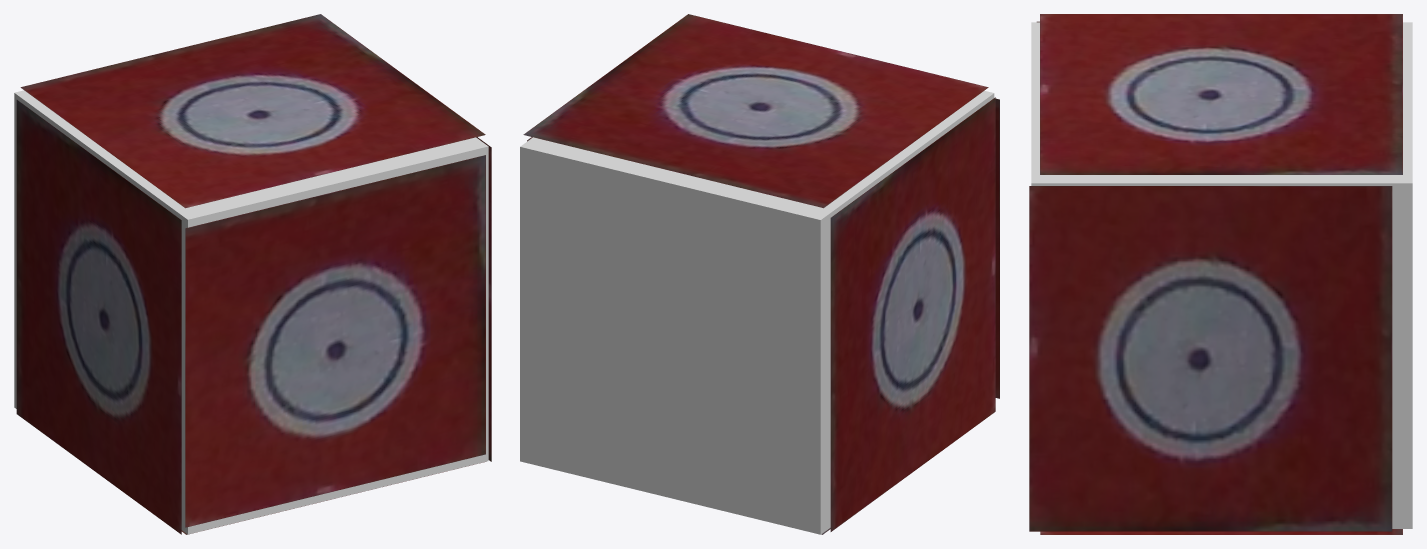
3 views of the same model, side by side, from view 1: azimuth 30°, elevation 25°; view 2: azimuth 150°, elevation 25°; view 3: azimuth 270°, elevation 25° (orthographic). The views are drawn at different scales.
Parts seen in each view (by area): view 1: R2.001, R2.002, R2, Link36, R2.004; view 2: Link36, R2.002, R2, R2.001; view 3: R2.004, R2, Link36, R2.003.
Part boxes in pixels (x1,y1,x2,y2): R2.001: (185,155,485,527); R2.002: (16,100,181,534); R2: (20,14,485,208); Link36: (14,90,488,534); R2.004: (476,137,491,461); Link36: (520,90,994,534); R2.002: (830,97,995,531); R2: (523,14,988,208); R2.001: (995,98,999,398); R2.004: (1029,186,1392,531); R2: (1040,14,1402,174); Link36: (1031,22,1412,528); R2.003: (1040,529,1402,534).
Bounding box in the file's own units: 0.3578 × 0.3529 × 0.3637.
1 material, 1 textured.
